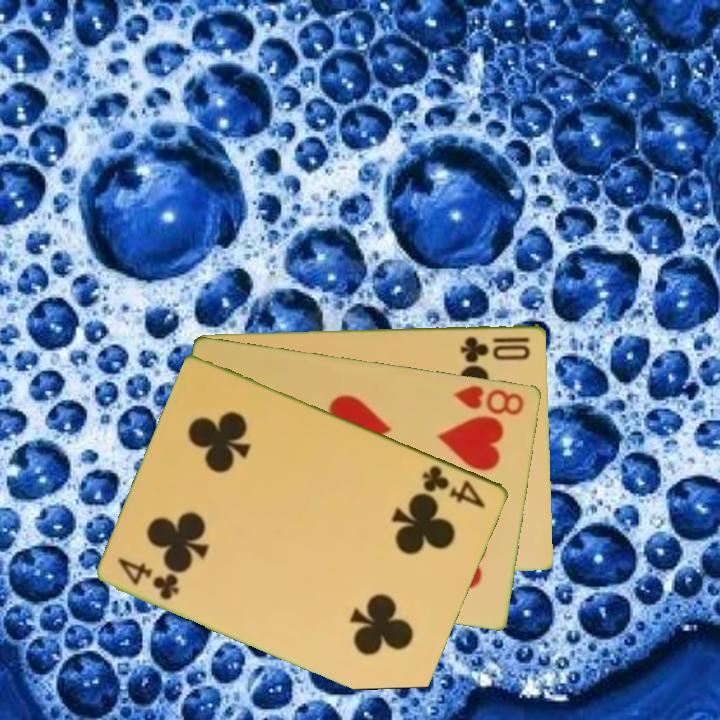10c: (457, 333, 534, 363)
4c: (419, 461, 489, 511), (114, 554, 183, 603)
8h: (450, 381, 528, 418)
